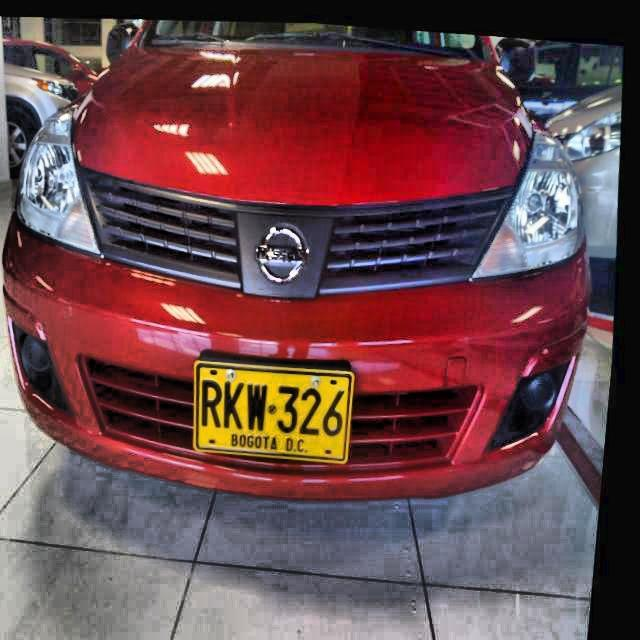plate: (196, 364, 351, 462)
